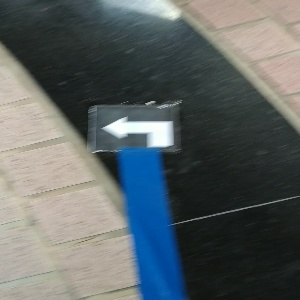left: (87, 105, 180, 152)
